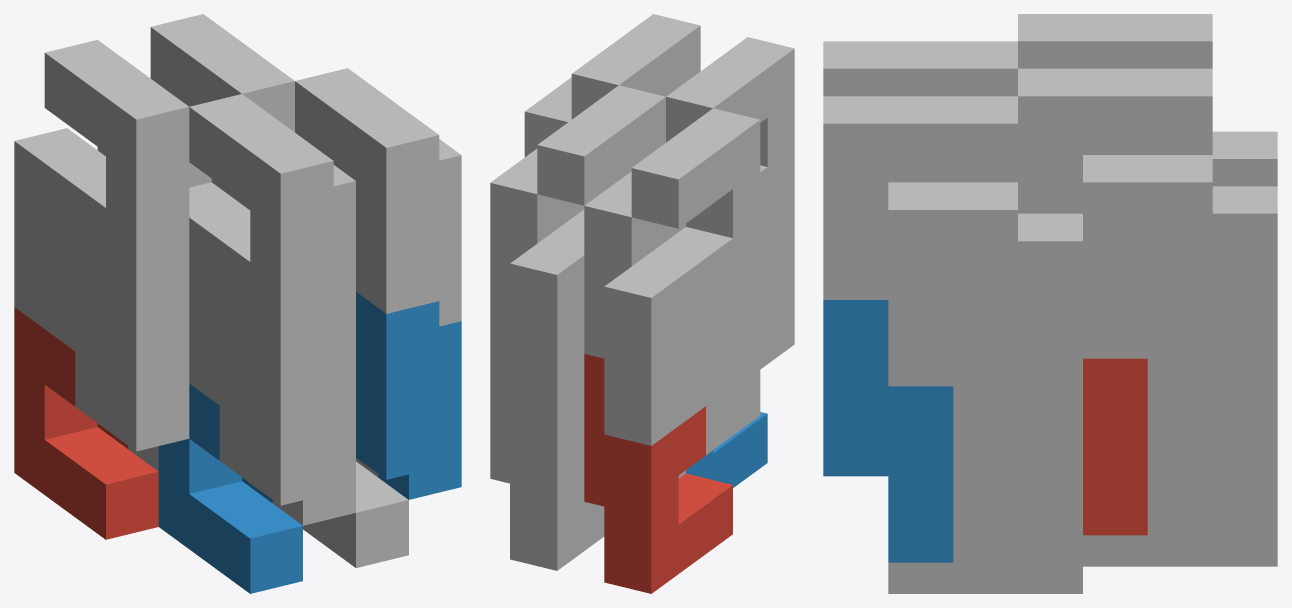
The model's file is tiling.obj.
The picture shows the model from 3 angles, left to right: view 1: azimuth 30°, elevation 25°; view 2: azimuth 150°, elevation 25°; view 3: azimuth 270°, elevation 25°; orthographic projection. The views are drawn at different scales.
Parts seen in each view (by area): view 1: copy_2_domain_4, copy_2_domain_8, copy_2_domain_3, copy_2_domain_2, copy_2_domain_1, copy_2_domain_6, copy_1_domain_1, copy_1_domain_2, copy_1_domain_3, copy_2_domain_7, copy_1_domain_4, copy_1_domain_6; view 2: copy_1_domain_3, copy_1_domain_7, copy_1_domain_1, copy_2_domain_3, copy_1_domain_5, copy_2_domain_4, copy_2_domain_7, copy_2_domain_1, copy_2_domain_8, copy_2_domain_2, copy_1_domain_2, copy_1_domain_8; view 3: copy_2_domain_8, copy_2_domain_7, copy_1_domain_5, copy_1_domain_6, copy_1_domain_7, copy_1_domain_8, copy_2_domain_6, copy_2_domain_5, copy_2_domain_4, copy_2_domain_3, copy_1_domain_3.
Part boxes in pixels (bbox=[...]): copy_2_domain_4: bbox=[189, 94, 355, 352]; copy_2_domain_8: bbox=[295, 68, 461, 326]; copy_2_domain_3: bbox=[44, 40, 211, 285]; copy_2_domain_2: bbox=[189, 273, 355, 525]; copy_2_domain_1: bbox=[44, 219, 189, 471]; copy_2_domain_6: bbox=[356, 292, 461, 499]; copy_1_domain_1: bbox=[14, 307, 158, 539]; copy_1_domain_2: bbox=[158, 383, 302, 593]; copy_1_domain_3: bbox=[14, 128, 105, 373]; copy_2_domain_7: bbox=[150, 14, 294, 203]; copy_1_domain_4: bbox=[189, 182, 250, 427]; copy_1_domain_6: bbox=[303, 458, 408, 567]; copy_1_domain_3: bbox=[584, 186, 732, 445]; copy_1_domain_7: bbox=[490, 163, 584, 422]; copy_1_domain_1: bbox=[584, 354, 732, 593]; copy_2_domain_3: bbox=[612, 108, 760, 306]; copy_1_domain_5: bbox=[490, 331, 604, 570]; copy_2_domain_4: bbox=[666, 37, 794, 221]; copy_2_domain_7: bbox=[517, 85, 665, 228]; copy_2_domain_1: bbox=[678, 268, 760, 478]; copy_2_domain_8: bbox=[552, 14, 700, 119]; copy_2_domain_2: bbox=[760, 197, 794, 369]; copy_1_domain_2: bbox=[686, 412, 767, 487]; copy_1_domain_8: bbox=[524, 91, 571, 156]; copy_2_domain_8: bbox=[823, 96, 1017, 386]; copy_2_domain_7: bbox=[1018, 68, 1212, 358]; copy_1_domain_5: bbox=[1083, 358, 1277, 566]; copy_1_domain_6: bbox=[888, 386, 1082, 593]; copy_1_domain_7: bbox=[1147, 155, 1277, 390]; copy_1_domain_8: bbox=[953, 182, 1082, 417]; copy_2_domain_6: bbox=[823, 300, 953, 562]; copy_2_domain_5: bbox=[1083, 358, 1147, 535]; copy_2_domain_4: bbox=[823, 41, 1017, 96]; copy_2_domain_3: bbox=[1018, 14, 1212, 68]; copy_1_domain_3: bbox=[1212, 131, 1277, 186].
Bounding box in the file's own units: 5 × 8 × 7.
